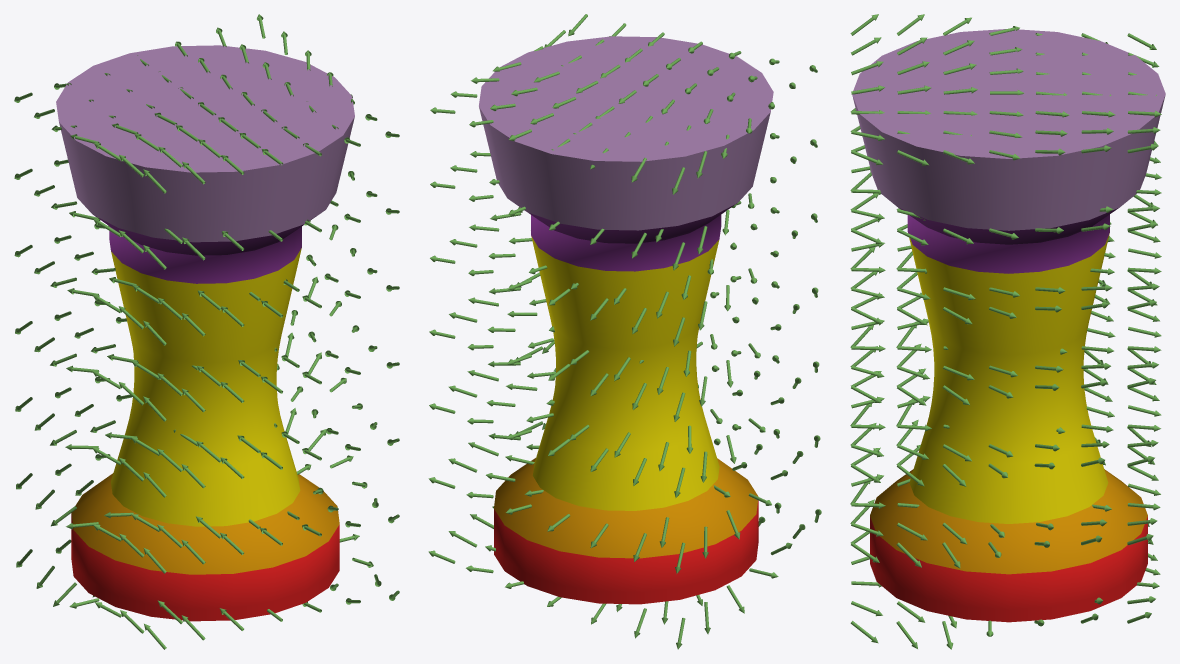
The model's file is todo.fbx.
3 views of the same model, side by side, from view 1: azimuth 30°, elevation 25°; view 2: azimuth 150°, elevation 25°; view 3: azimuth 270°, elevation 25° (orthographic). The views are drawn at different scales.
Parts seen in each view (by area): view 1: pasted__pasted__pCylinder1, campo_vectorial_flechas:campo_vectorial; view 2: pasted__pasted__pCylinder1, campo_vectorial_flechas:campo_vectorial; view 3: pasted__pasted__pCylinder1, campo_vectorial_flechas:campo_vectorial.
Part boxes in pixels (x1=…): pasted__pasted__pCylinder1: x1=56, y1=45, x2=354, y2=621; campo_vectorial_flechas:campo_vectorial: x1=14, y1=14, x2=399, y2=649; pasted__pasted__pCylinder1: x1=479, y1=36, x2=773, y2=604; campo_vectorial_flechas:campo_vectorial: x1=428, y1=14, x2=821, y2=649; pasted__pasted__pCylinder1: x1=852, y1=29, x2=1165, y2=622; campo_vectorial_flechas:campo_vectorial: x1=850, y1=14, x2=1161, y2=649.
Bounding box in the file's own units: 10 × 16.35 × 9.12.
